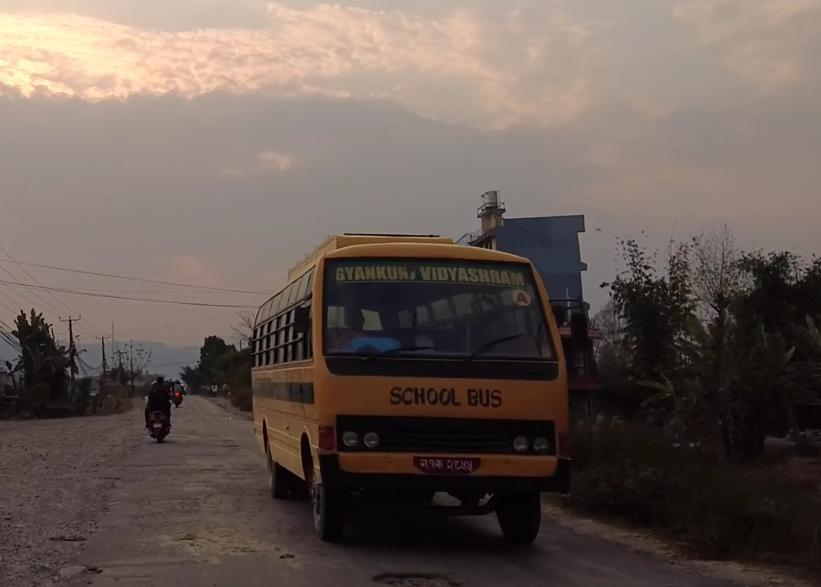school_bus: (242, 220, 577, 554)
